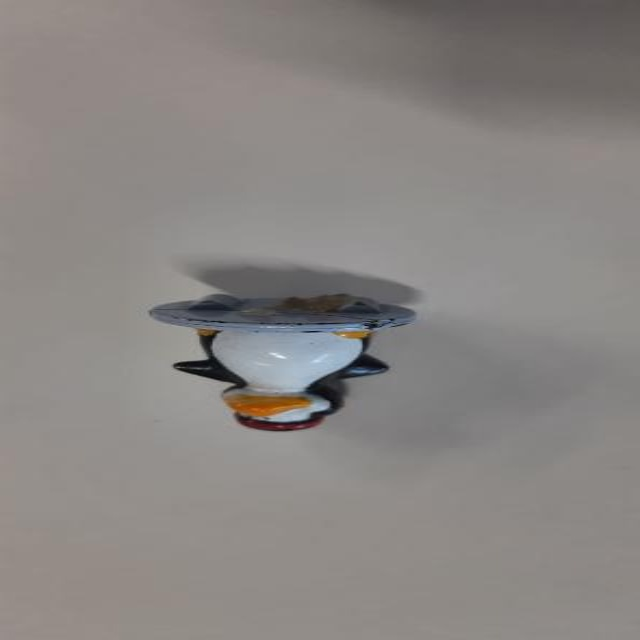Penguin: (159, 294, 405, 436)
